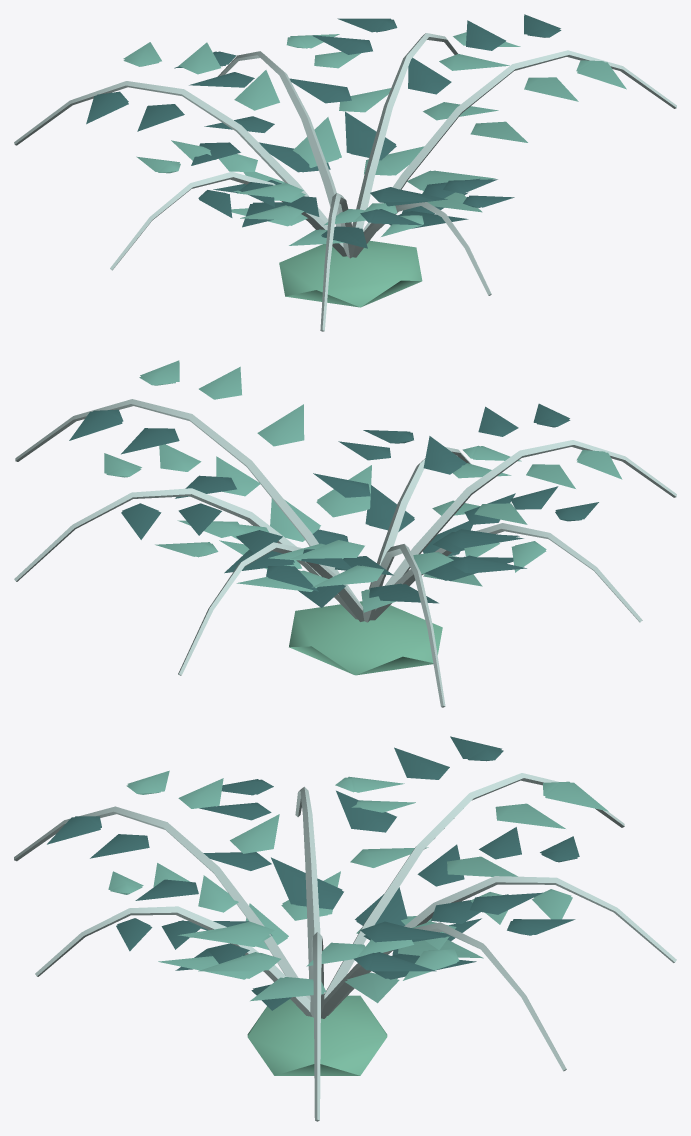
Rendered from glimmerwood_fern.glb.
The picture shows the model from 3 angles, top to bottom: view 1: azimuth 30°, elevation 25°; view 2: azimuth 150°, elevation 25°; view 3: azimuth 270°, elevation 25°; orthographic projection. The views are drawn at different scales.
Parts seen in each view (by area): view 1: glimmerwood_fern; view 2: glimmerwood_fern; view 3: glimmerwood_fern.
Part boxes in pixels (box(x1,y1,x2,y2)): glimmerwood_fern: box(14, 14, 676, 331); glimmerwood_fern: box(14, 360, 676, 707); glimmerwood_fern: box(14, 736, 676, 1121).
Size of the model in its own units: 1.51 by 0.4841 by 1.29.
